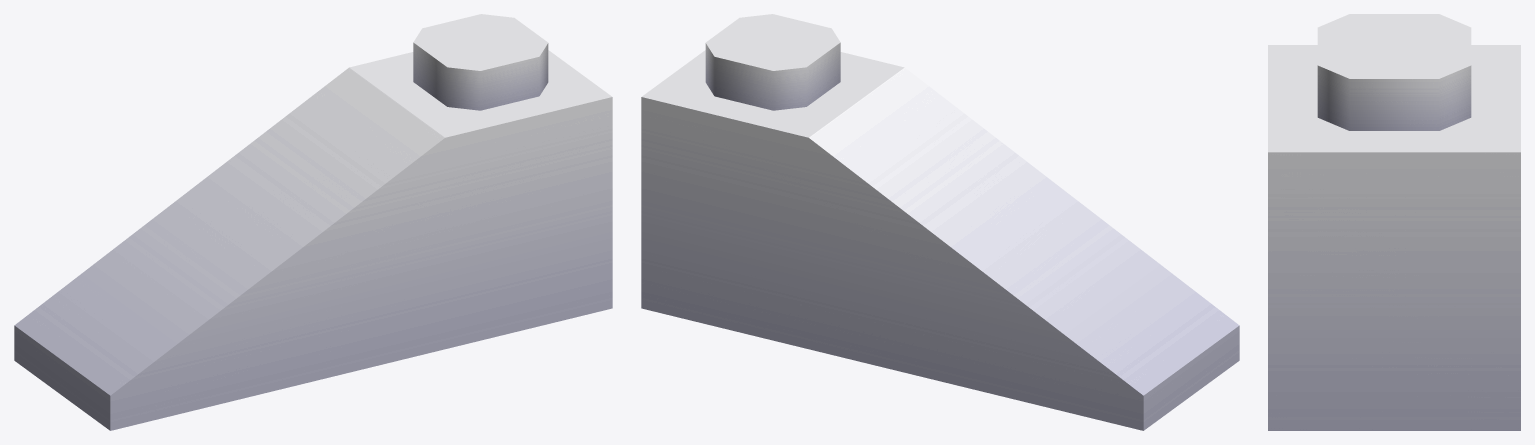
The model's file is bevel_lq_brick_slope_3x1.glb.
3 renders of one model, left to right at view 1: azimuth 30°, elevation 25°; view 2: azimuth 150°, elevation 25°; view 3: azimuth 270°, elevation 25°, orthographic. The views are drawn at different scales.
Parts seen in each view (by area): view 1: bevel-lq-brick-slope-3x1; view 2: bevel-lq-brick-slope-3x1; view 3: bevel-lq-brick-slope-3x1.
Boxes of the visible parts, x1,y1,x2,y2 form: bevel-lq-brick-slope-3x1: [14, 14, 612, 430]; bevel-lq-brick-slope-3x1: [641, 14, 1239, 430]; bevel-lq-brick-slope-3x1: [1268, 14, 1520, 430].
Size of the model in its own units: 0.2385 by 0.114 by 0.079.
1 material, 1 textured.
